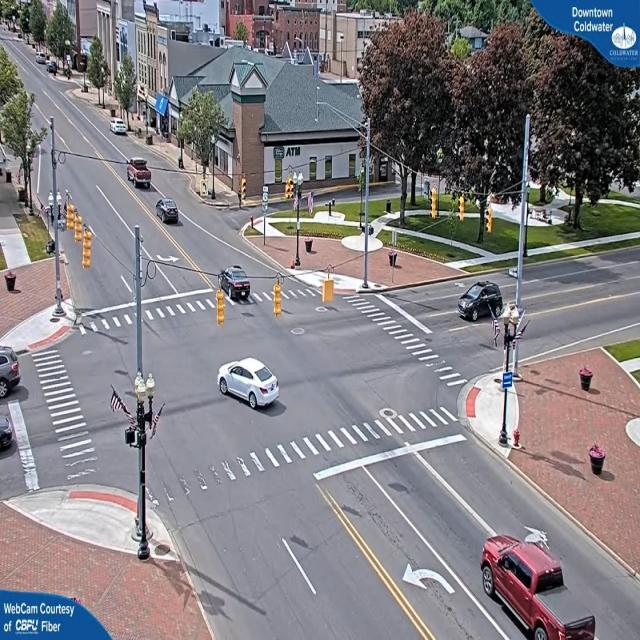car: (482, 533, 596, 640), (218, 358, 280, 410), (460, 281, 507, 324), (220, 265, 254, 301), (125, 158, 154, 188), (156, 198, 182, 225), (112, 120, 129, 136)
